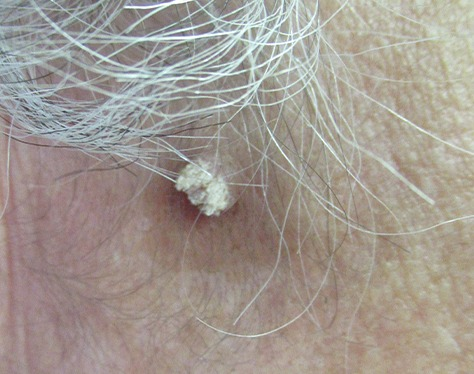Warts: (166, 140, 257, 242)
